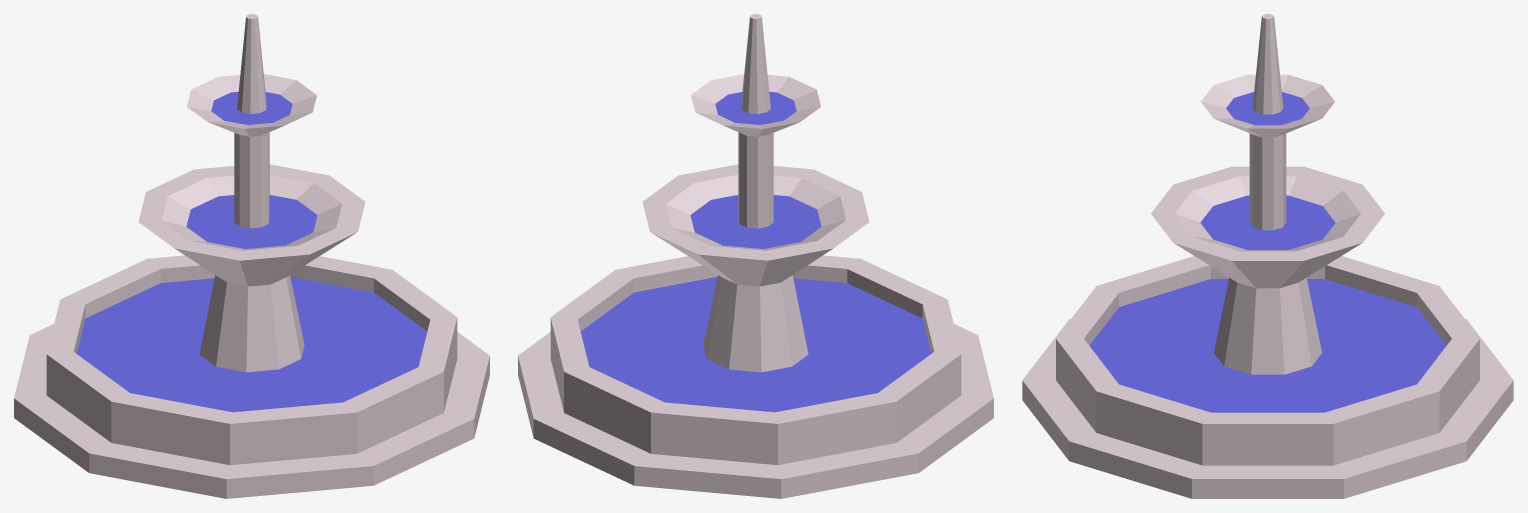
The model's file is Foutain.fbx.
3 views of the same model, side by side, from view 1: azimuth 30°, elevation 25°; view 2: azimuth 150°, elevation 25°; view 3: azimuth 270°, elevation 25° (orthographic).
Parts seen in each view (by area): view 1: Fountain; view 2: Fountain; view 3: Fountain.
Boxes of the visible parts, bbox=[...] form: Fountain: bbox=[14, 14, 489, 498]; Fountain: bbox=[518, 14, 993, 498]; Fountain: bbox=[1022, 14, 1513, 498].
Size of the model in its own units: 1.9 by 1.72 by 2.
